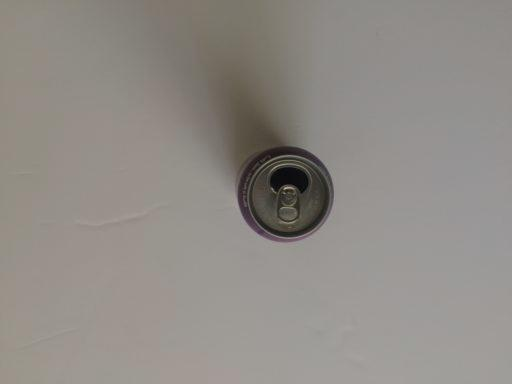metal: (234, 147, 334, 244)
